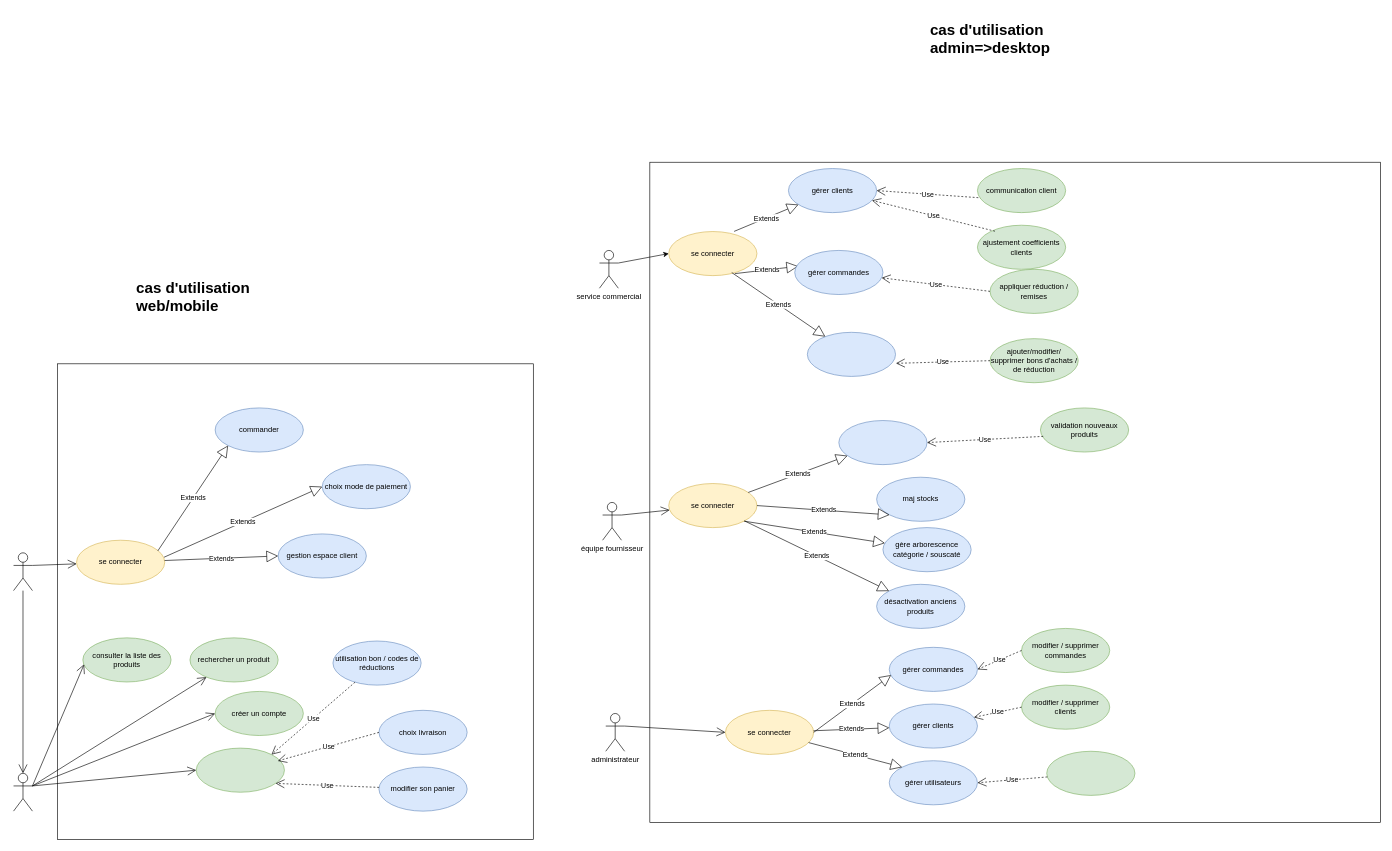
The diagram is 1392 pixels wide and 851 high, and some of its shapes have lost their labels. Here are the shapes that lost their labels. From the top down, the box of each, then its label:
(807, 332, 896, 376): gestion bons d'achats/réduc
(838, 420, 927, 465): achat fournisseur
(13, 552, 32, 591): client
(196, 747, 284, 792): alimenter son panier
(1046, 751, 1135, 795): modifier / supprimer utilisateurs
(13, 773, 32, 811): visiteur
